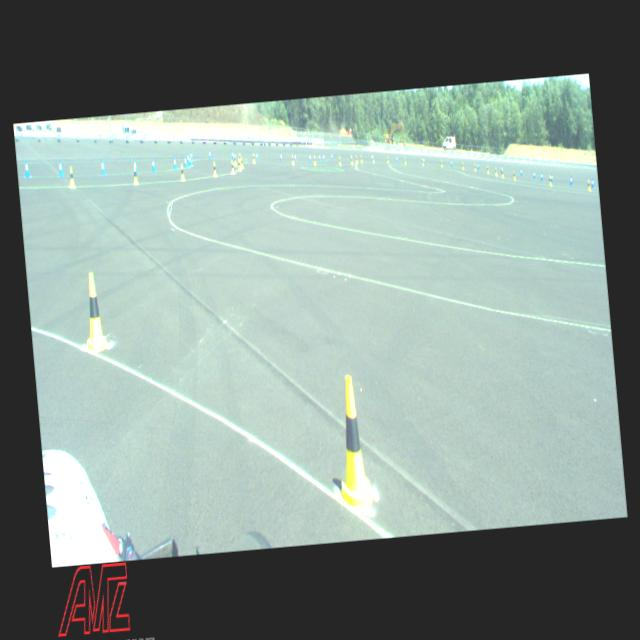blue_cone: (23, 158, 30, 176), (57, 158, 63, 176), (100, 158, 106, 175), (150, 156, 156, 172), (132, 157, 138, 173), (172, 156, 176, 170), (183, 155, 187, 167), (186, 152, 190, 164), (568, 174, 572, 185), (590, 177, 594, 188), (308, 153, 312, 162), (189, 154, 192, 166), (231, 150, 234, 160), (550, 173, 553, 183), (255, 151, 258, 161), (532, 170, 535, 179), (208, 150, 211, 158), (540, 172, 543, 180), (190, 150, 192, 161), (280, 152, 282, 162), (294, 152, 296, 162), (318, 152, 320, 161), (520, 168, 522, 176), (330, 153, 332, 161), (322, 152, 324, 160), (500, 164, 502, 172), (370, 154, 372, 162), (450, 160, 452, 167), (476, 162, 478, 169), (396, 155, 398, 162)
yellow_cone: (328, 373, 377, 515), (82, 270, 106, 350), (68, 165, 76, 188), (179, 163, 185, 181), (132, 167, 138, 184), (212, 160, 217, 176), (230, 160, 235, 173), (237, 158, 241, 171), (586, 178, 590, 190), (232, 154, 236, 166), (354, 154, 358, 164), (338, 154, 341, 166), (240, 156, 243, 168), (548, 174, 551, 186), (313, 154, 316, 165), (291, 154, 294, 165), (252, 152, 255, 163), (501, 167, 504, 178), (512, 170, 515, 180), (473, 162, 476, 172), (494, 167, 497, 176), (486, 165, 489, 174), (461, 162, 464, 170), (238, 152, 240, 164), (440, 160, 443, 167), (350, 154, 352, 164), (360, 154, 362, 164), (386, 154, 388, 162), (372, 155, 374, 163), (422, 158, 424, 165), (404, 157, 406, 164)
